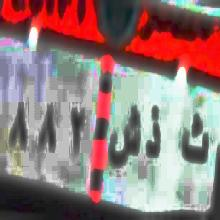2: (67, 101, 88, 156)
8: (38, 97, 58, 158), (11, 102, 27, 153)
sheen: (108, 102, 141, 175)
thaa: (181, 103, 211, 170)
zaal: (145, 103, 163, 165)
